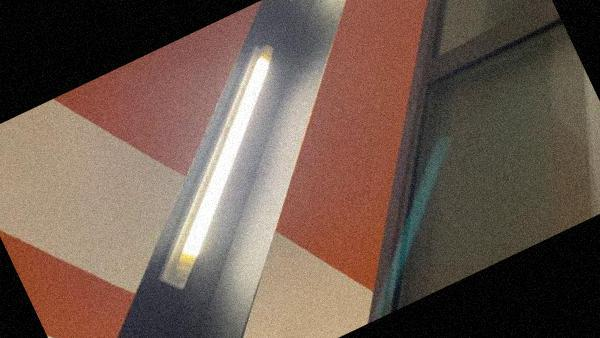light_on: (75, 25, 368, 302)
